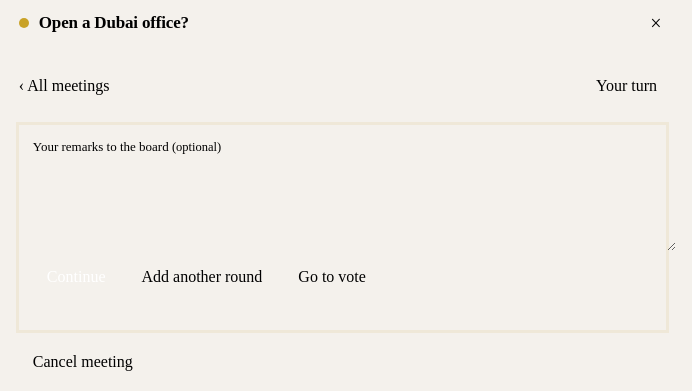
it: Meeting room › Add another round sends the founder's remarks with next=extra-round
The width and height of the screenshot is (692, 391).
Click the button "Add another round".
click(202, 277)  # box [128,259,276,295]
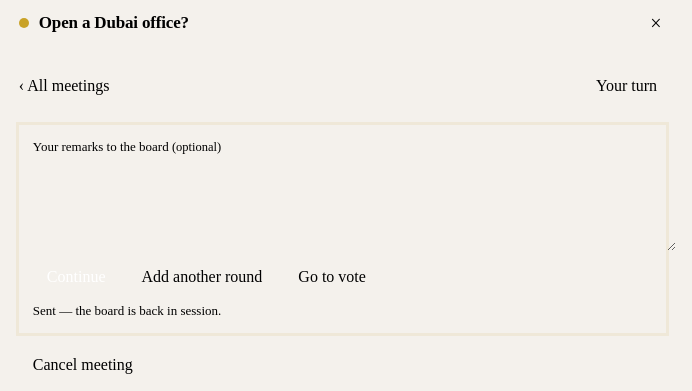
Expected: the text "Sent — the board is back in session." is shown, [33,303,221,318]
